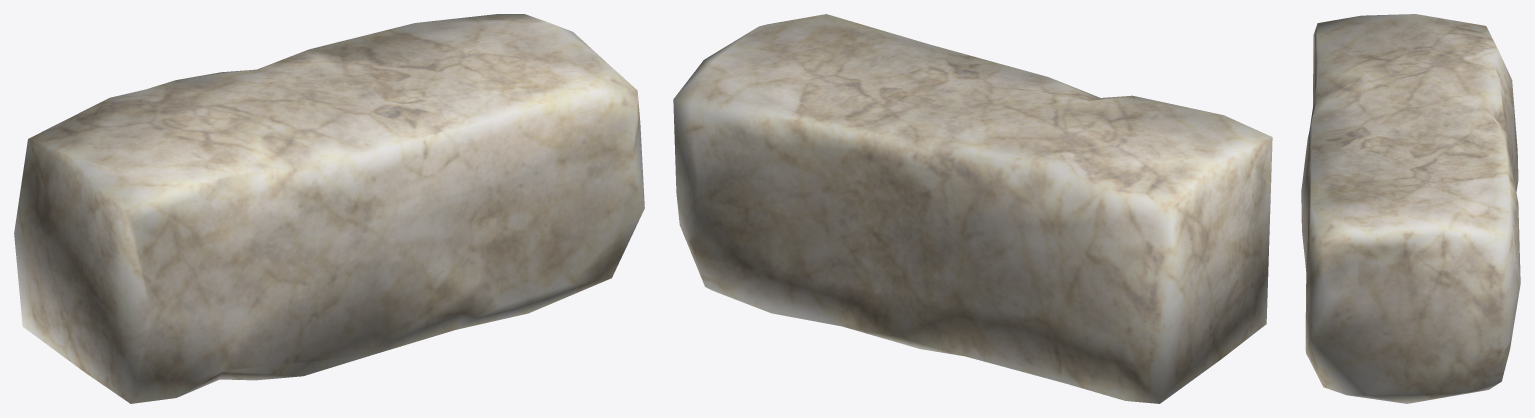
File: SM_StoneRefined_3.fbx
3 views of the same model, side by side, from view 1: azimuth 30°, elevation 25°; view 2: azimuth 150°, elevation 25°; view 3: azimuth 270°, elevation 25° (orthographic). The views are drawn at different scales.
Parts seen in each view (by area): view 1: SM_StoneRefined_3_LOD0; view 2: SM_StoneRefined_3_LOD0; view 3: SM_StoneRefined_3_LOD0.
Boxes of the visible parts, x1,y1,x2,y2 form: SM_StoneRefined_3_LOD0: (14,14,644,403); SM_StoneRefined_3_LOD0: (673,14,1272,403); SM_StoneRefined_3_LOD0: (1301,14,1520,403).
Size of what is drawn, in the model's own units: 0.6437 by 0.2749 by 0.2742.
